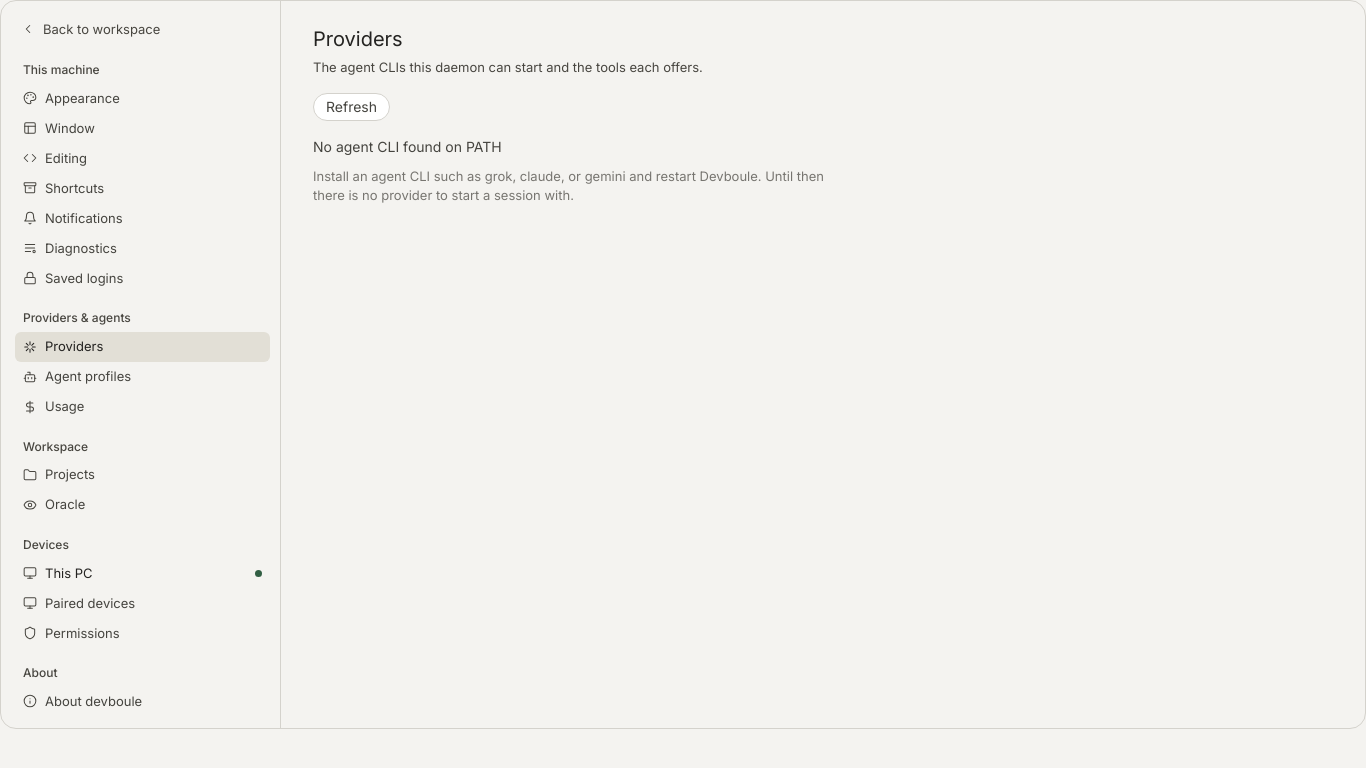
it: Settings menu shell › moves focus to the page title on click navigation (Providers)
Click the button "Appearance" at (142, 98), box x1=15 y1=83 x2=270 y2=113
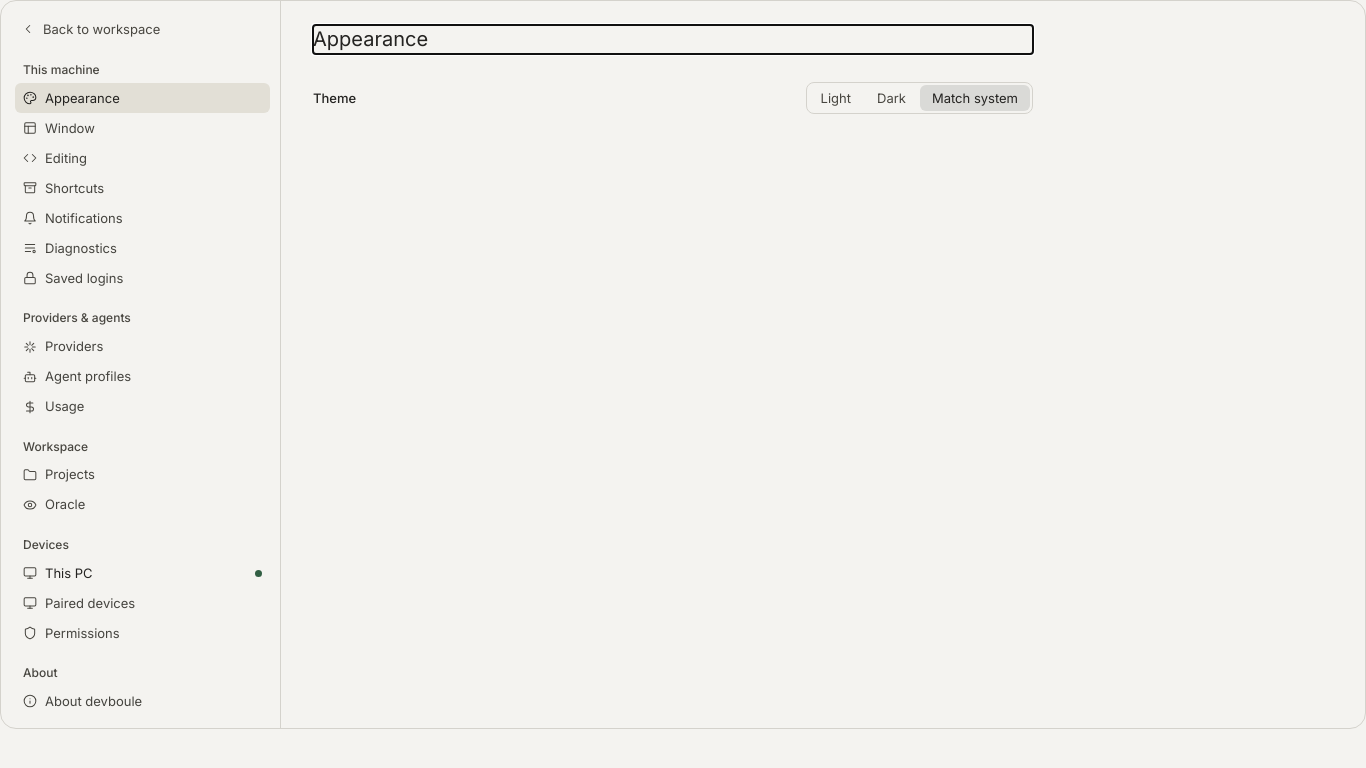
Click the button "Providers" at (142, 347), box x1=15 y1=332 x2=270 y2=362
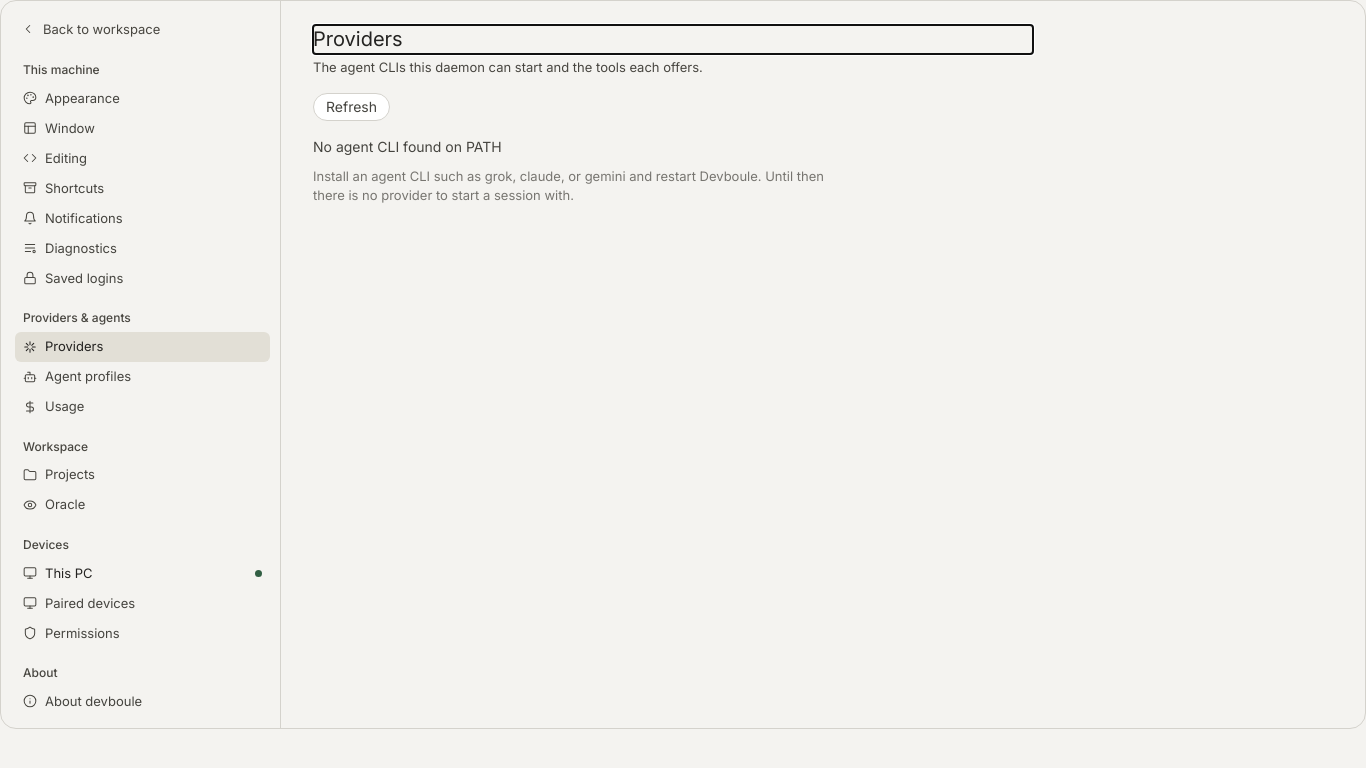
Now the heading "Providers" is shown, box x1=313 y1=27 x2=403 y2=51
